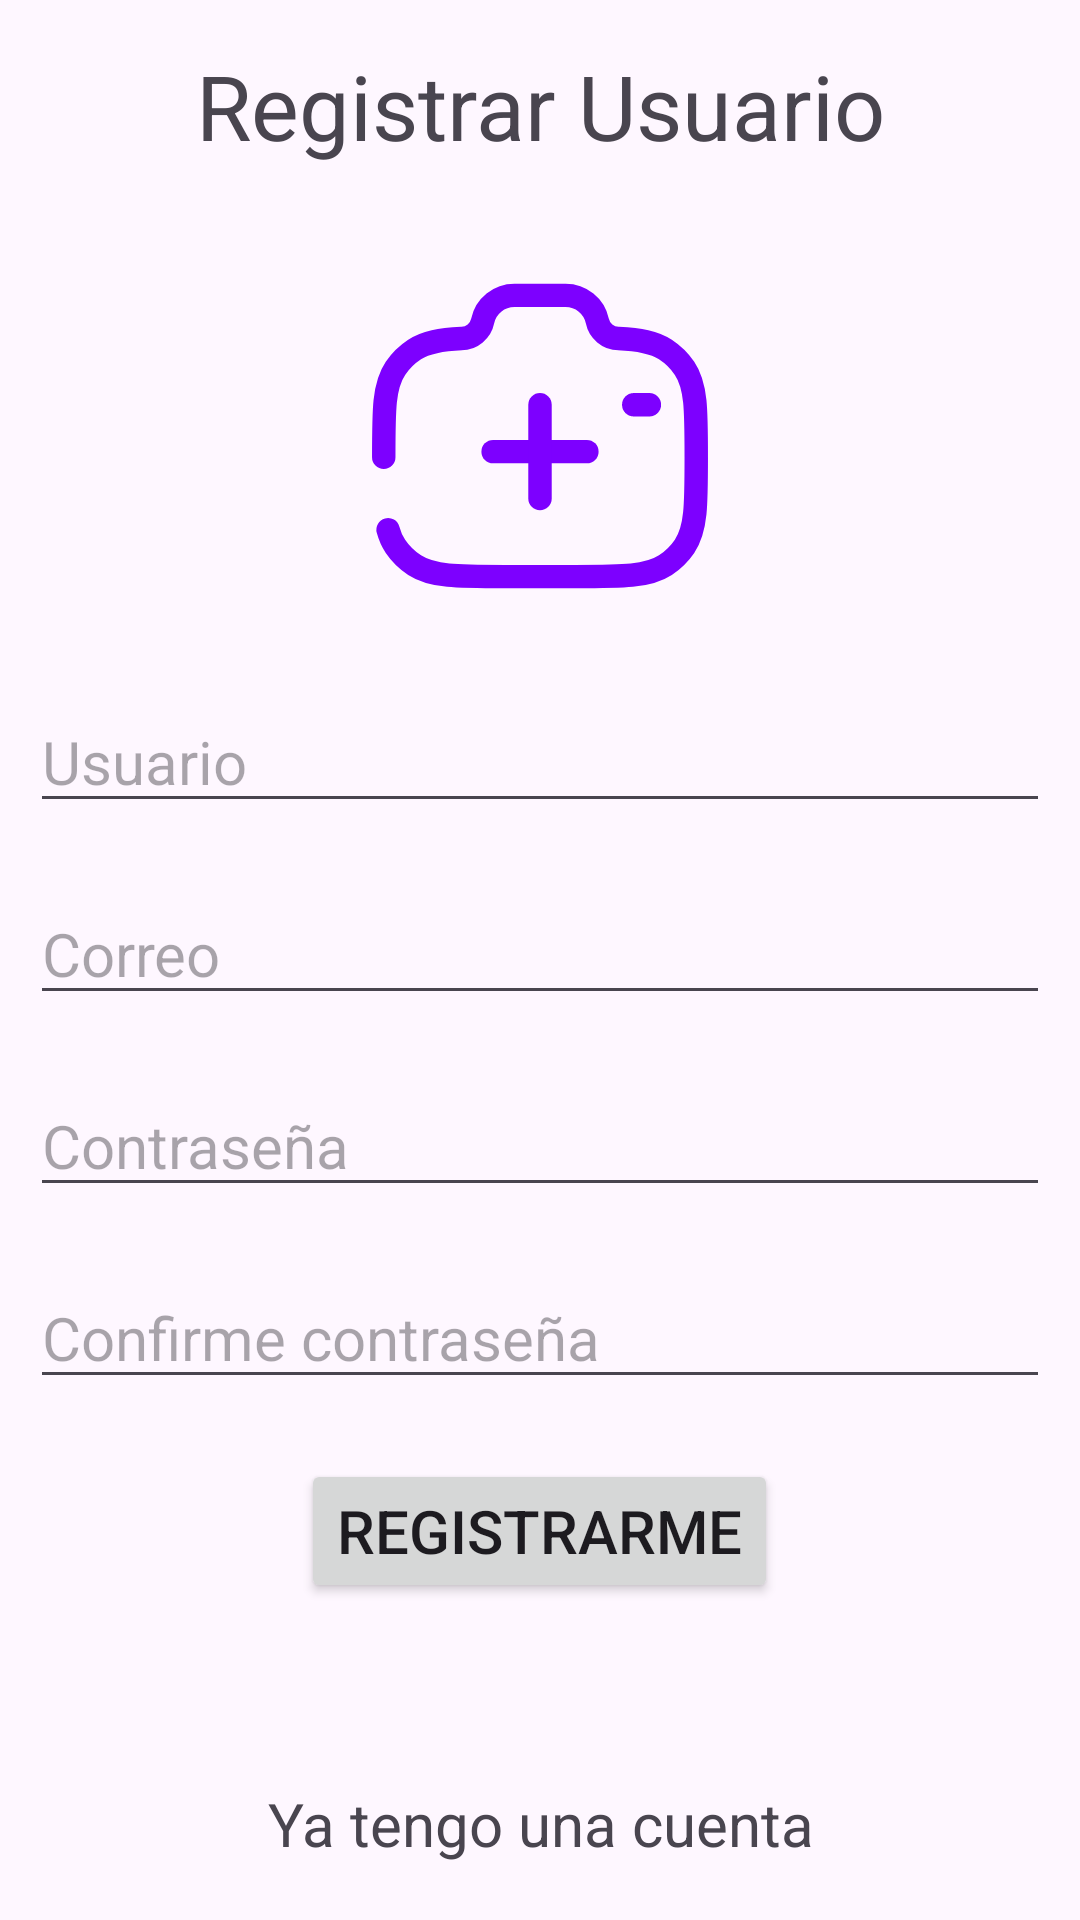

Icons on this 1080×1920 Android screen, each with its box as rect(x1, y1, x2, y2):
miapp add photo: rect(372, 283, 708, 589)
